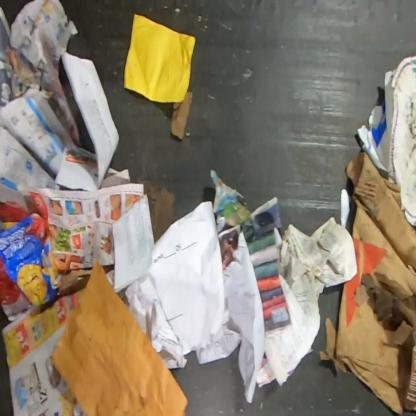cardboard: (318, 151, 415, 415), (49, 258, 189, 416), (405, 344, 415, 411)
soft_plastic: (0, 190, 59, 316)
